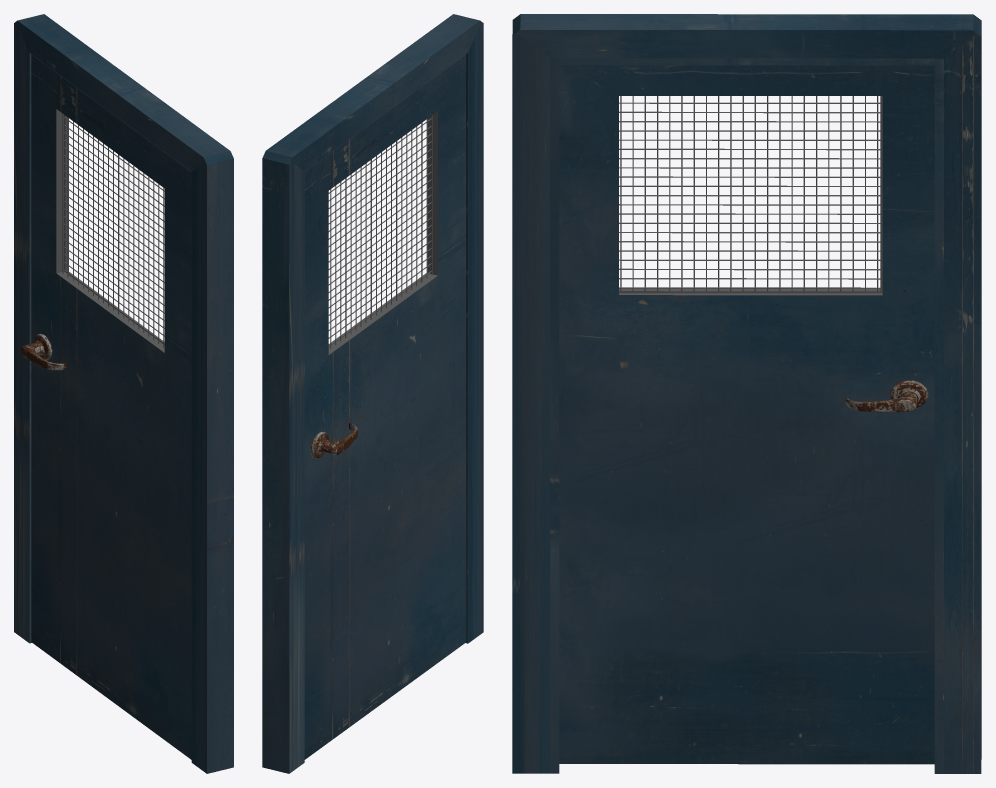
Rendered from door1.glb.
3 views of the same model, side by side, from view 1: azimuth 30°, elevation 25°; view 2: azimuth 150°, elevation 25°; view 3: azimuth 270°, elevation 25° (orthographic). The views are drawn at different scales.
Parts seen in each view (by area): view 1: Door, DoorFrame; view 2: Door, DoorFrame; view 3: Door, DoorFrame.
Part boxes in pixels (x1,y1,x2,y2): Door: (20, 54, 191, 759); DoorFrame: (14, 14, 233, 773); Door: (304, 54, 465, 759); DoorFrame: (262, 14, 483, 773); Door: (559, 65, 934, 764); DoorFrame: (512, 14, 981, 773).
Bounding box in the file's own units: 0.2026 × 2.1 × 1.2.
Materials: 3 (2 with a texture image).
